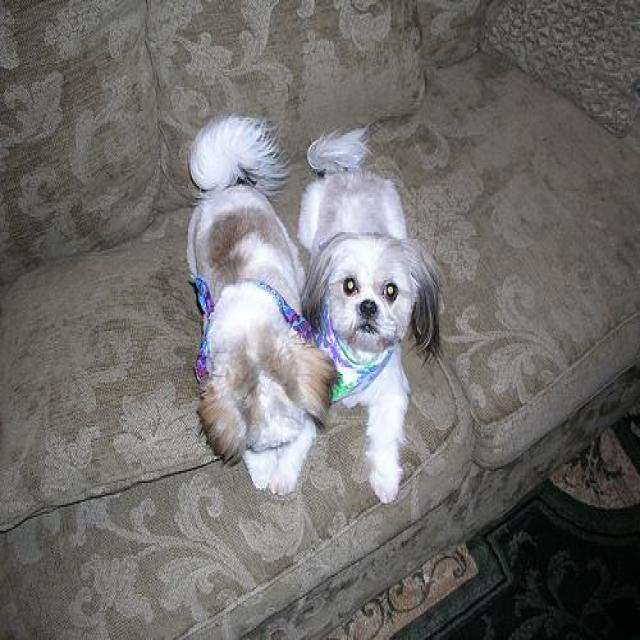shih_tzu: (269, 116, 448, 505), (187, 112, 338, 492)
